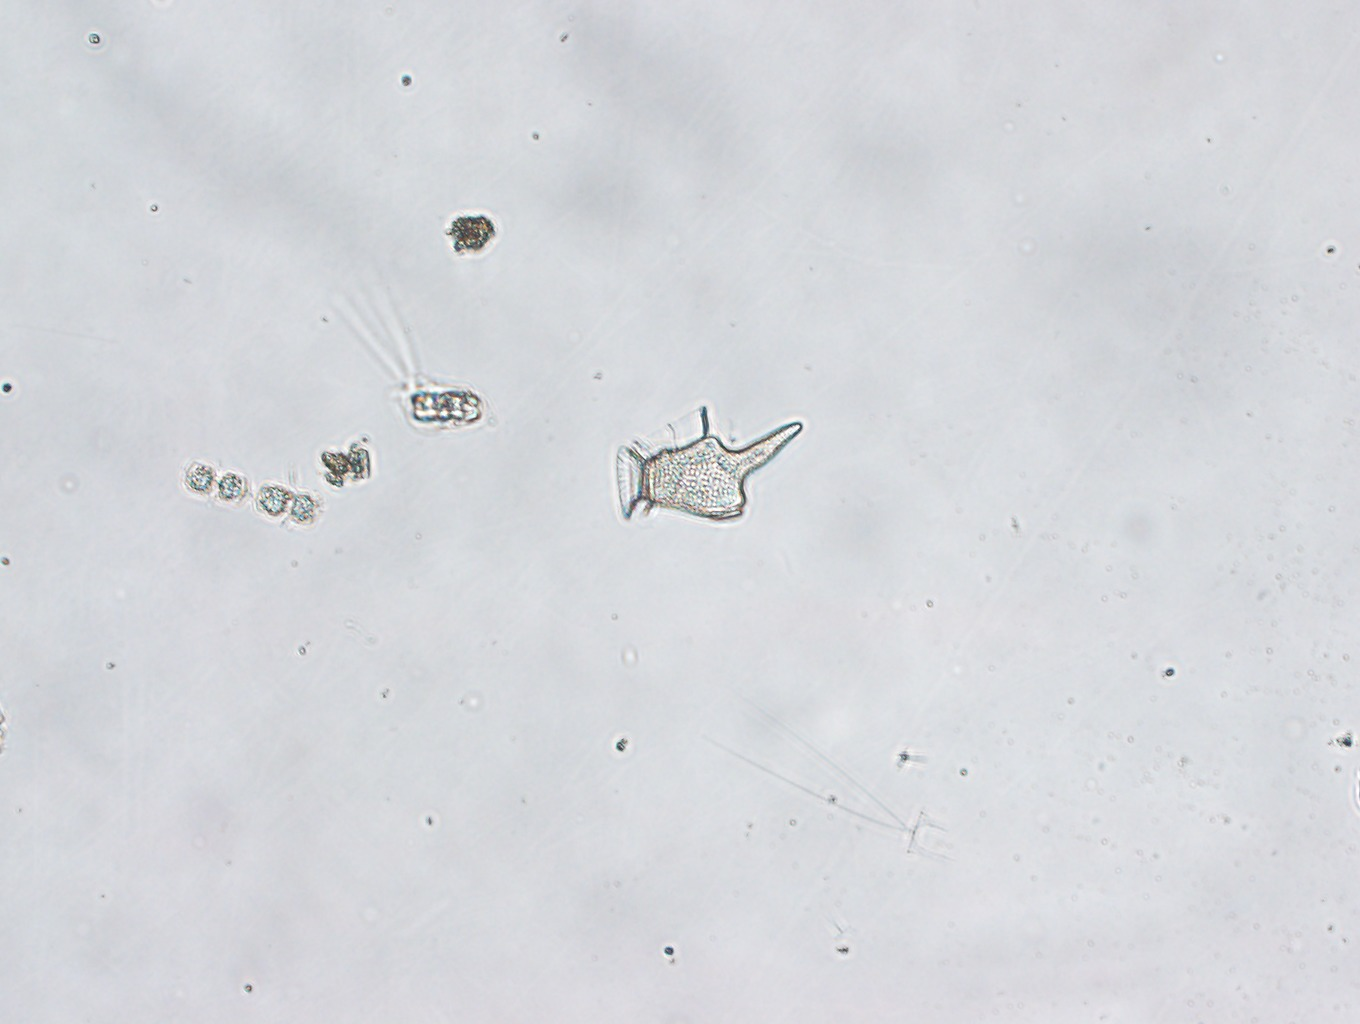chaetoceros: (180, 456, 326, 536)
dinophysis caudata: (613, 398, 806, 527)
